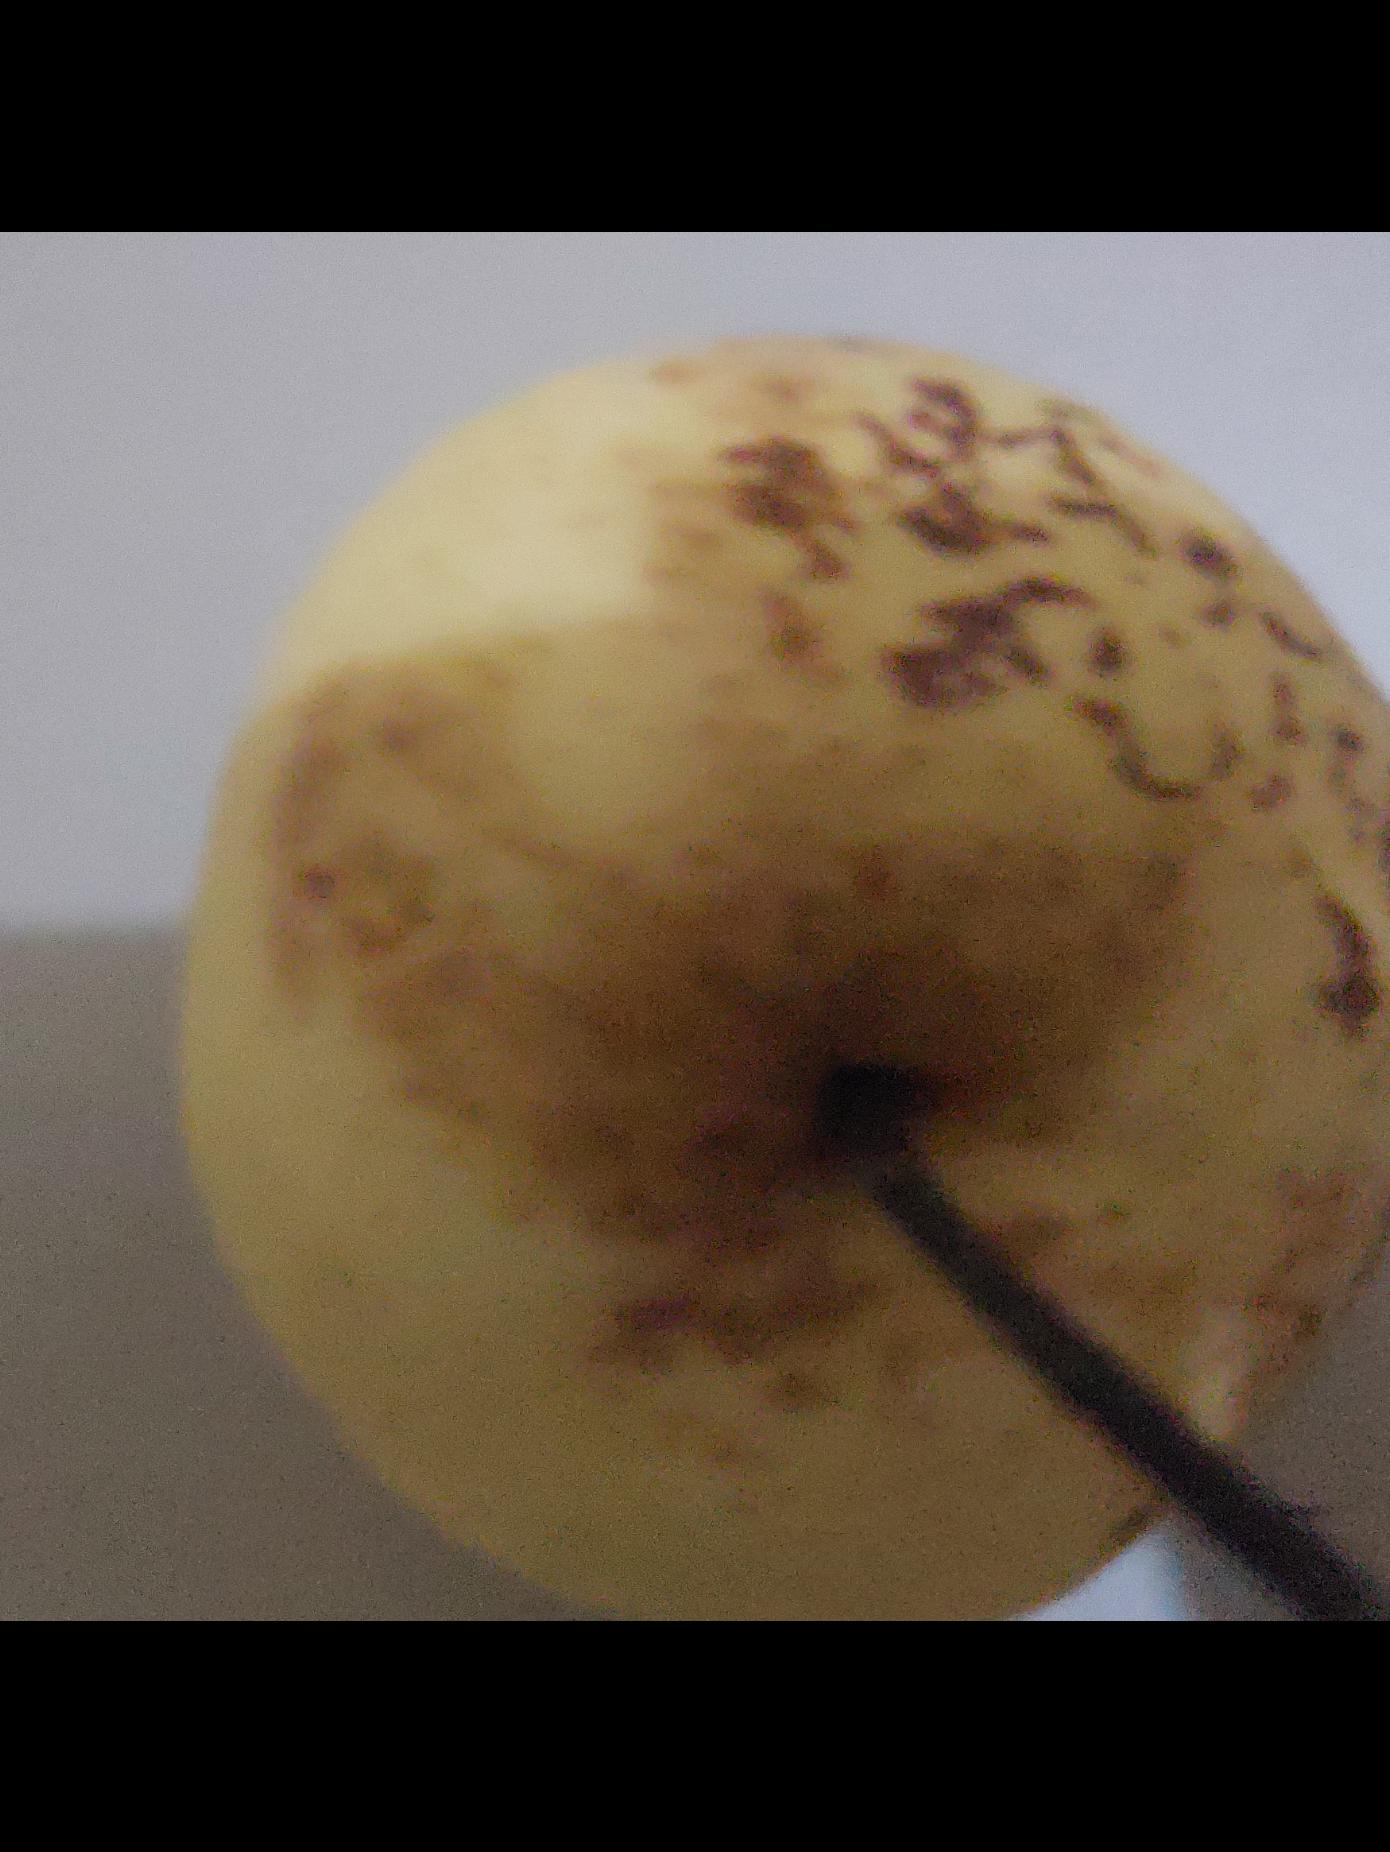Bad Pear: (188, 315, 1390, 1621)
